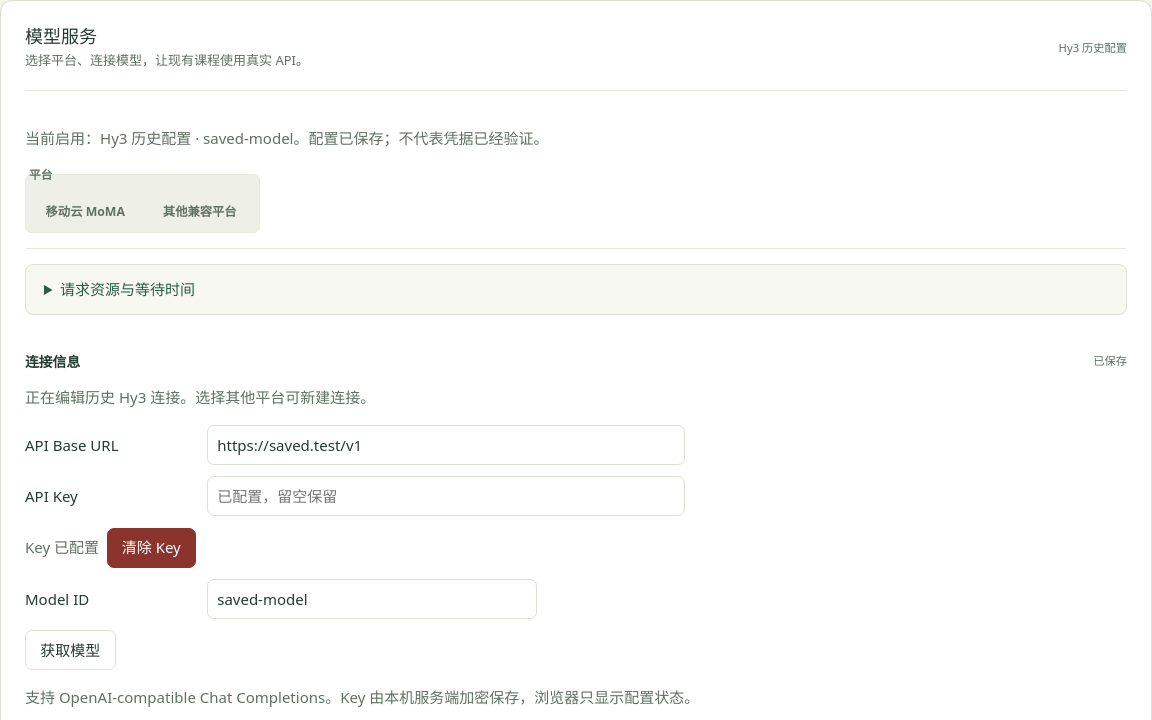
it: model service settings drafts › preserves historical Hy3 identity and lets the user explicitly create a new compatible connection
The width and height of the screenshot is (1152, 720).
Expected: the text named "当前启用连接" shows "Hy3 历史配置", [100,128,191,148]
Expected: the field labelled "API Base URL" holds "https://saved.test/v1", [207,425,685,465]
Click the radio button labelled "其他兼容平台".
click(200, 212)  # box [163,203,237,220]
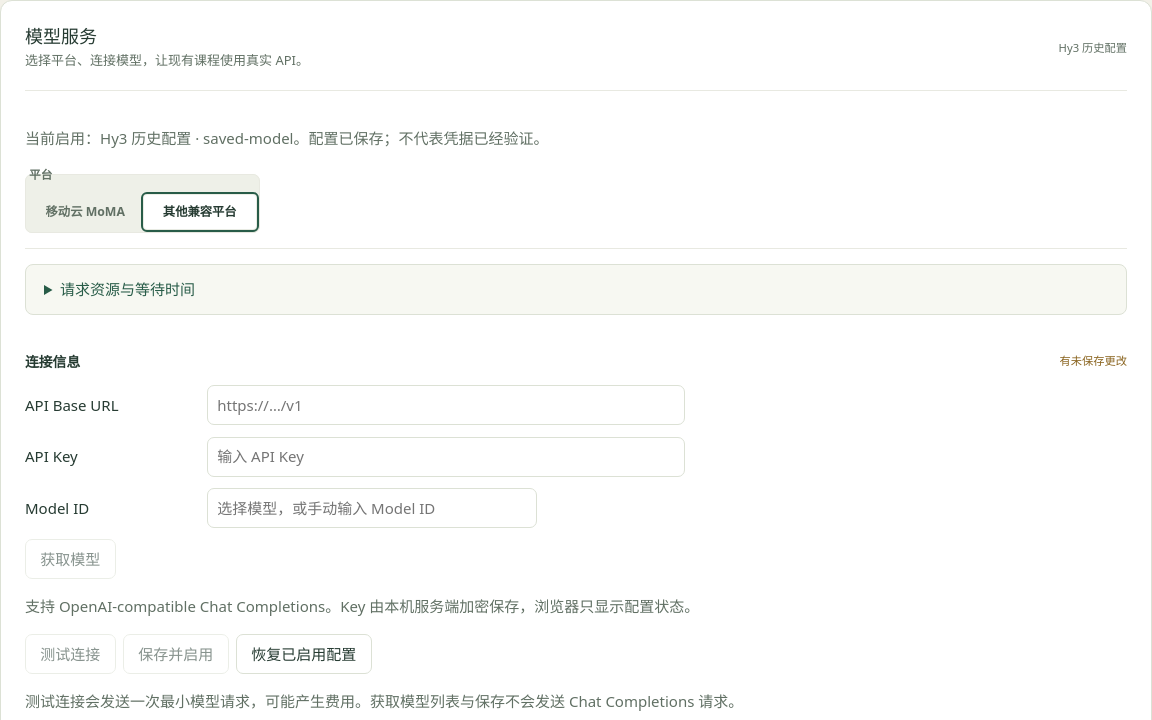
Expected: the radio button labelled "其他兼容平台" is checked, [144,195,256,229]
Expected: the field labelled "API Base URL" is empty, [207,385,685,425]
Expected: the field labelled "Model ID" is empty, [207,488,537,528]
